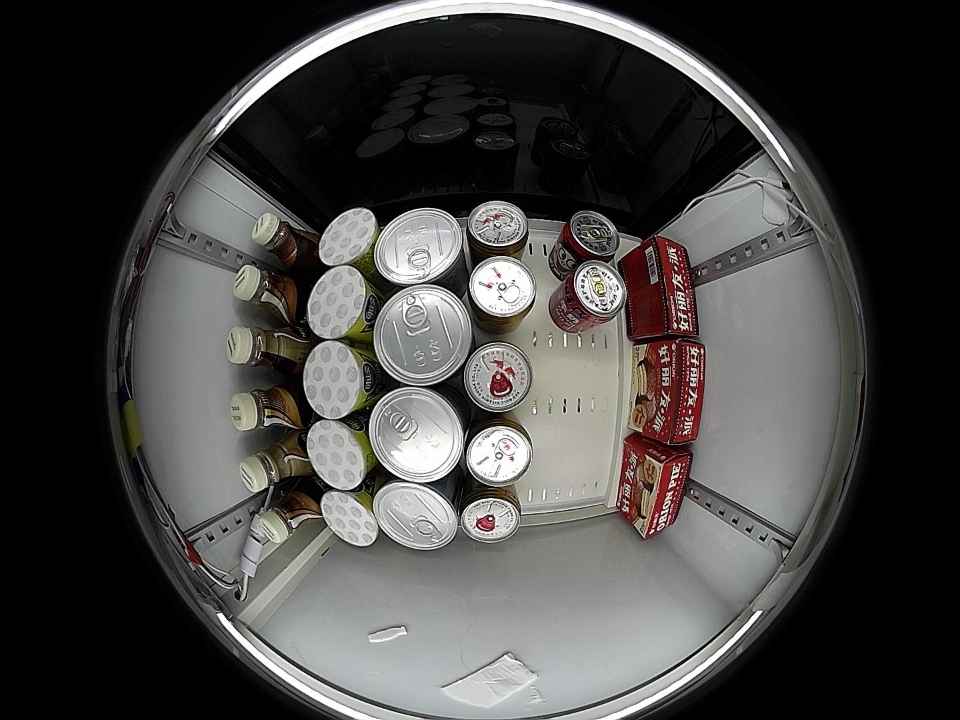haitai: (373, 285, 472, 387), (368, 385, 466, 483), (374, 207, 465, 288), (373, 479, 459, 551)
haoliyou: (628, 236, 699, 338), (640, 339, 705, 444), (628, 445, 694, 540)
hongniu: (462, 340, 534, 413), (458, 487, 523, 545)
hongniu2: (466, 255, 537, 332), (463, 415, 534, 486), (466, 200, 529, 259)
kafei: (232, 264, 306, 325), (239, 432, 311, 494), (225, 324, 308, 374), (253, 485, 322, 545), (250, 212, 317, 273), (229, 383, 305, 433)
kebike: (302, 340, 373, 420), (305, 266, 377, 341), (306, 418, 373, 491), (318, 208, 380, 271), (320, 487, 380, 547)
wangzainiunai: (556, 260, 626, 329), (558, 209, 620, 267)
